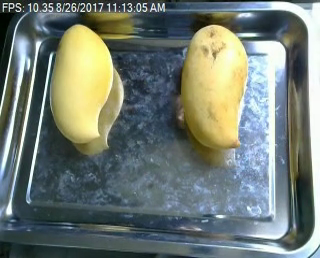Mango: (174, 23, 249, 150), (49, 23, 118, 147)
